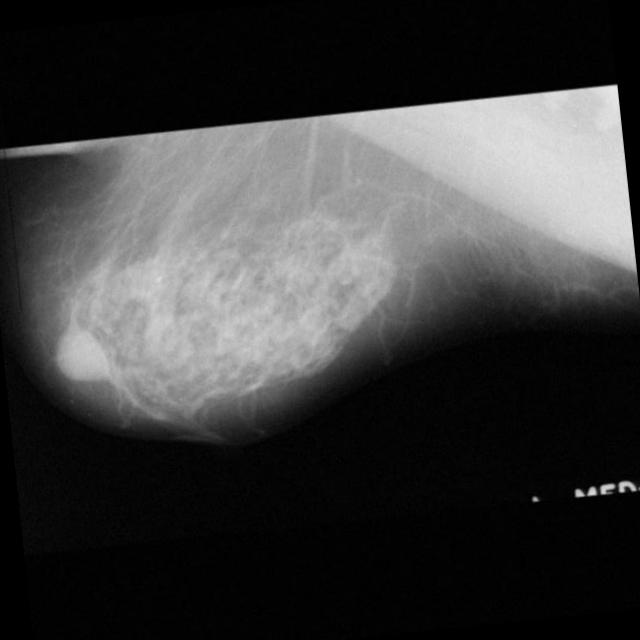CIRC: (46, 323, 115, 390)
